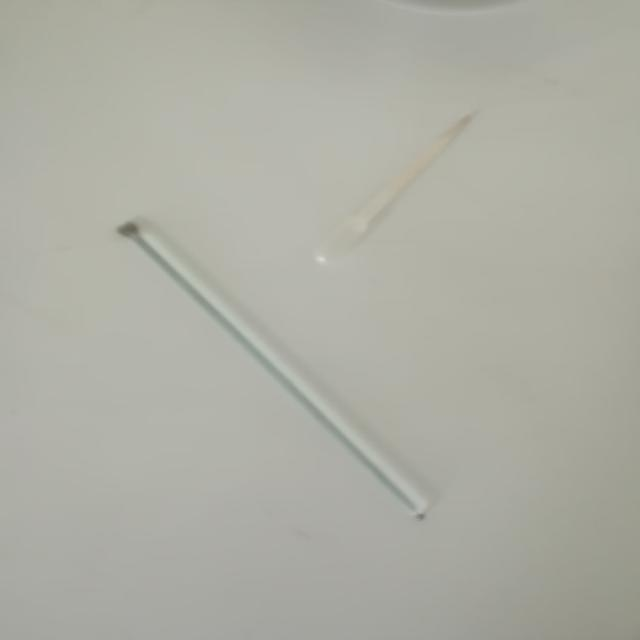Glass_Rod: (93, 202, 468, 541)
Pipette: (286, 92, 500, 282)
